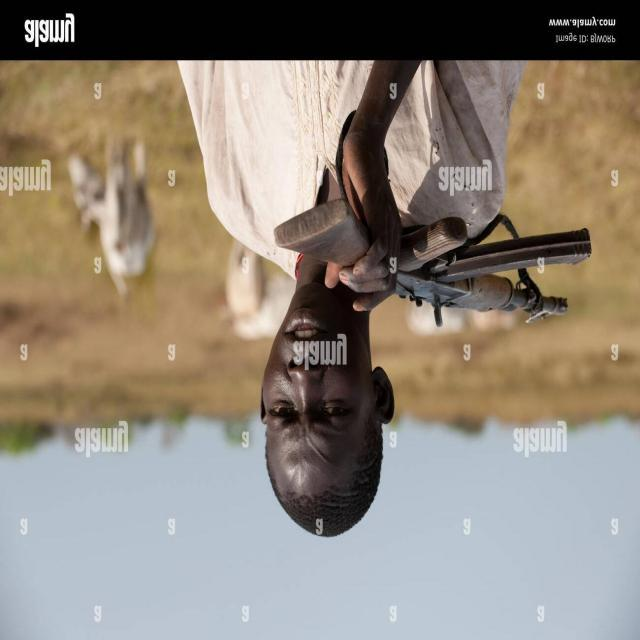weapon: (273, 197, 594, 327)
